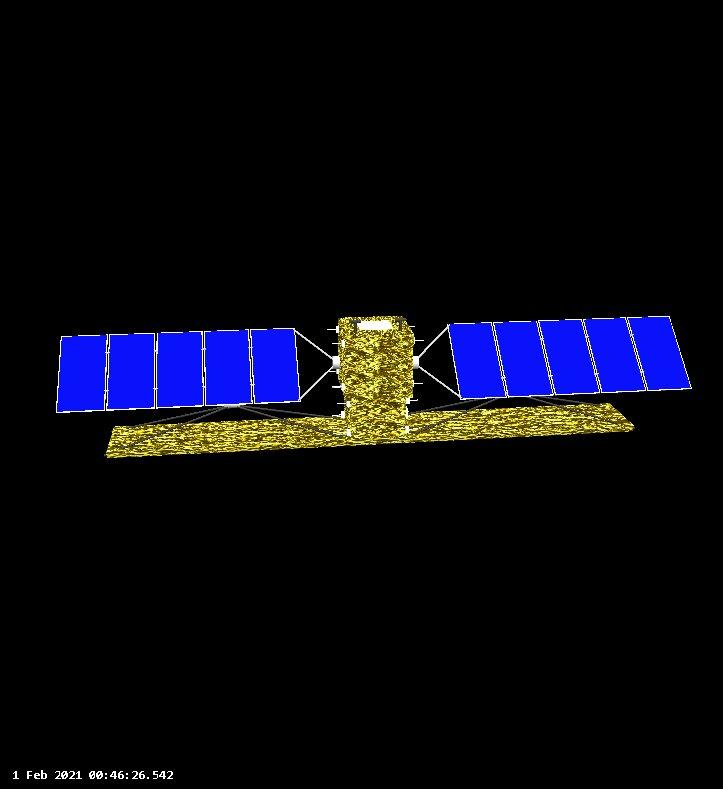body: (334, 304, 418, 430)
solar: (53, 323, 338, 416), (413, 312, 696, 401)
